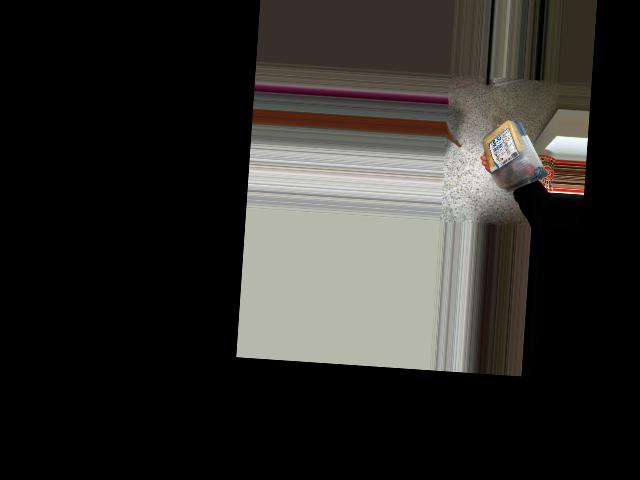cheese: (473, 113, 555, 197)
